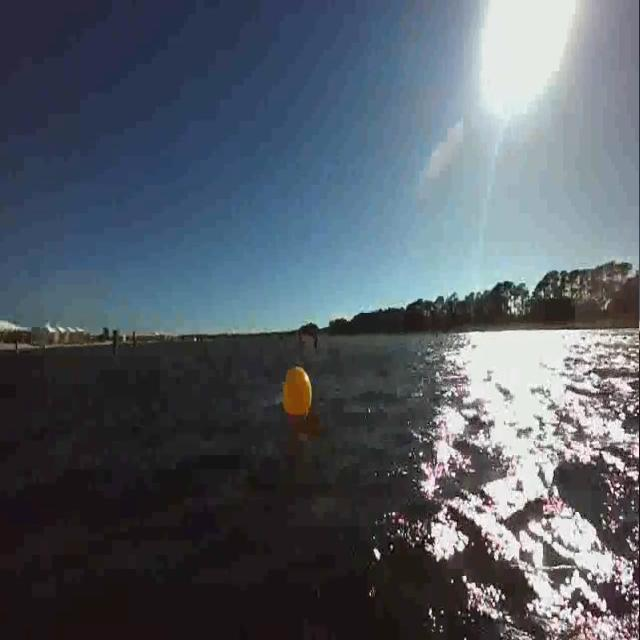yellow-buoy: (281, 365, 314, 419)
